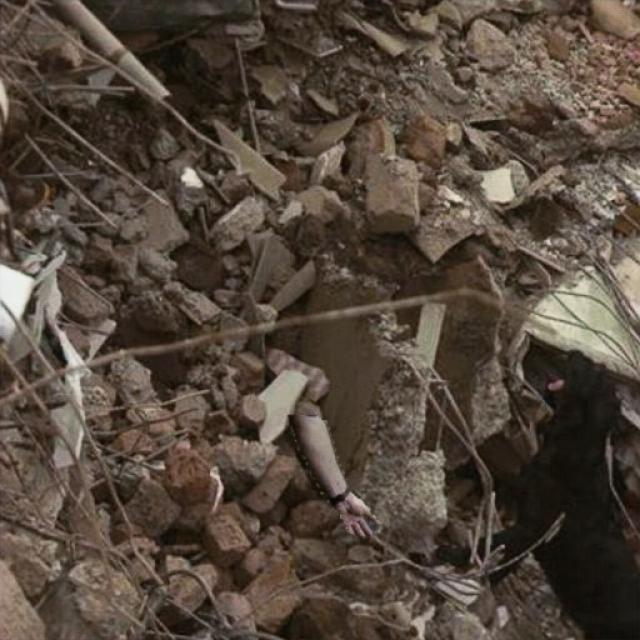Person in Rubble: (288, 415, 382, 535)
